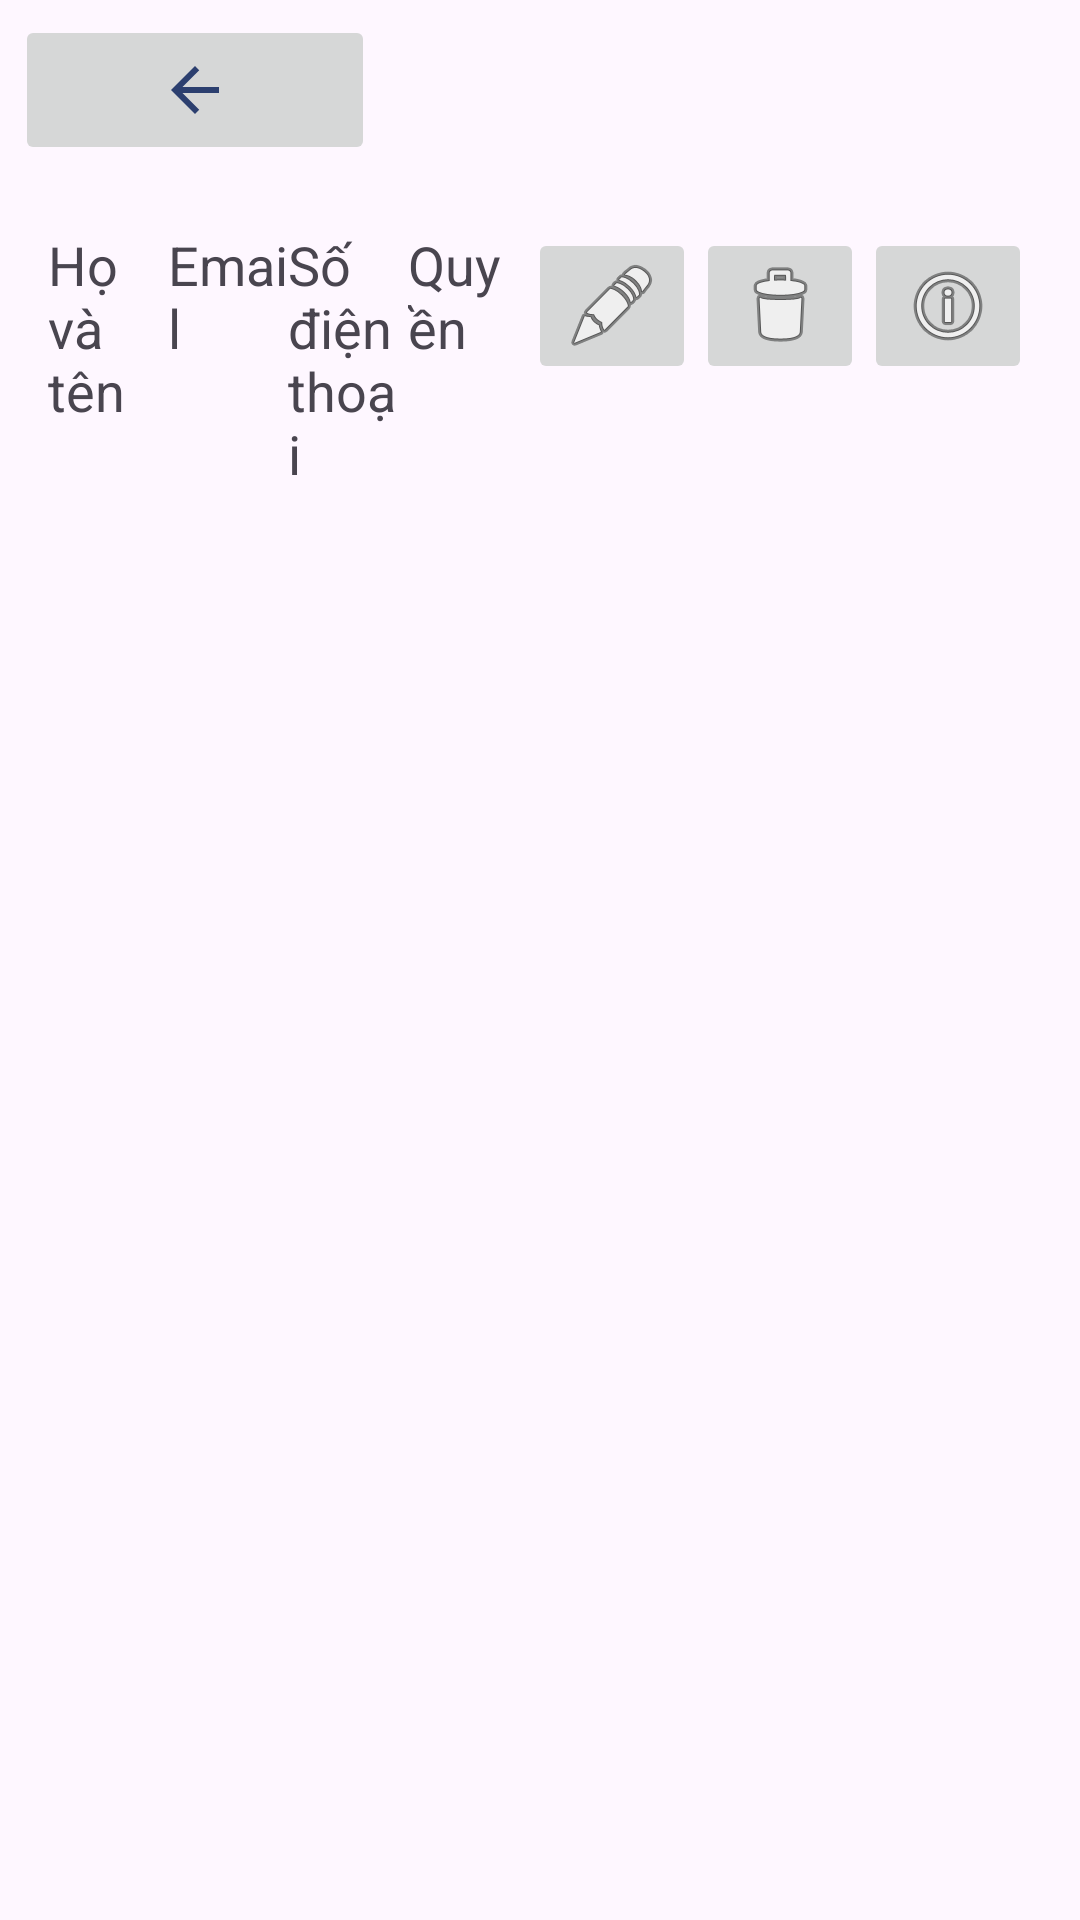

Icons on this 1080w x 1920h Android screen, each with its box as (x1, y1, x2, y2):
back: (27, 33, 363, 147)
delete: (708, 246, 852, 366)
edit: (540, 246, 684, 366)
info details: (876, 246, 1020, 366)
